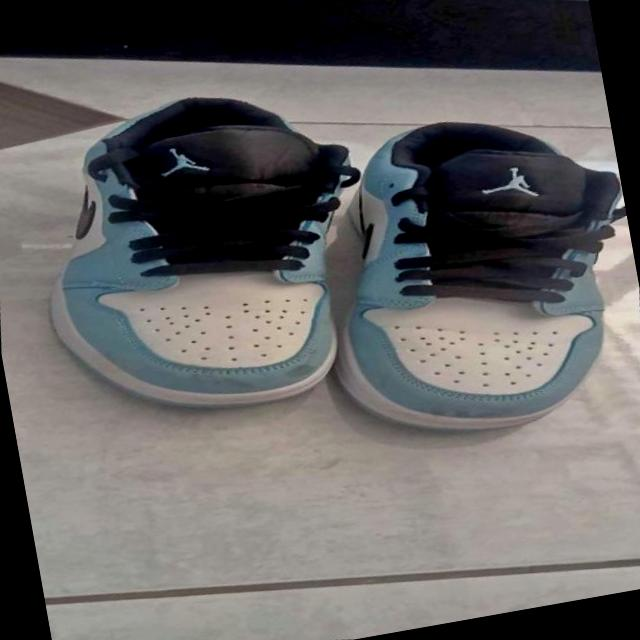nike_fake_jordan: (0, 52, 404, 454), (295, 77, 640, 475)
